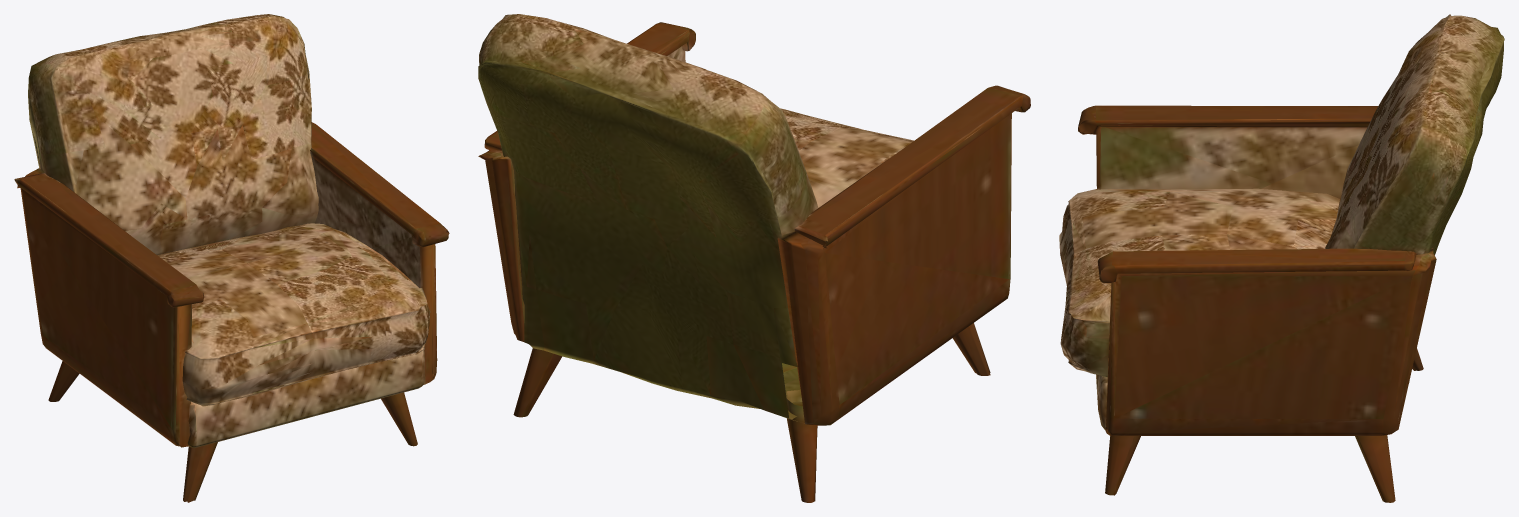
The model's file is armchair_beige__4.glb.
3 views of the same model, side by side, from view 1: azimuth 30°, elevation 25°; view 2: azimuth 150°, elevation 25°; view 3: azimuth 270°, elevation 25° (orthographic). The views are drawn at different scales.
Visible parts, largest first — view 1: Mesh_0.031; view 2: Mesh_0.031; view 3: Mesh_0.031.
Part boxes in pixels (box(x1,y1,x2,y2)): Mesh_0.031: box(14, 14, 449, 502); Mesh_0.031: box(478, 14, 1030, 502); Mesh_0.031: box(1059, 14, 1504, 502).
Size of the model in its own units: 0.7778 by 0.86 by 0.9246.
Materials: 1 (1 with a texture image).
